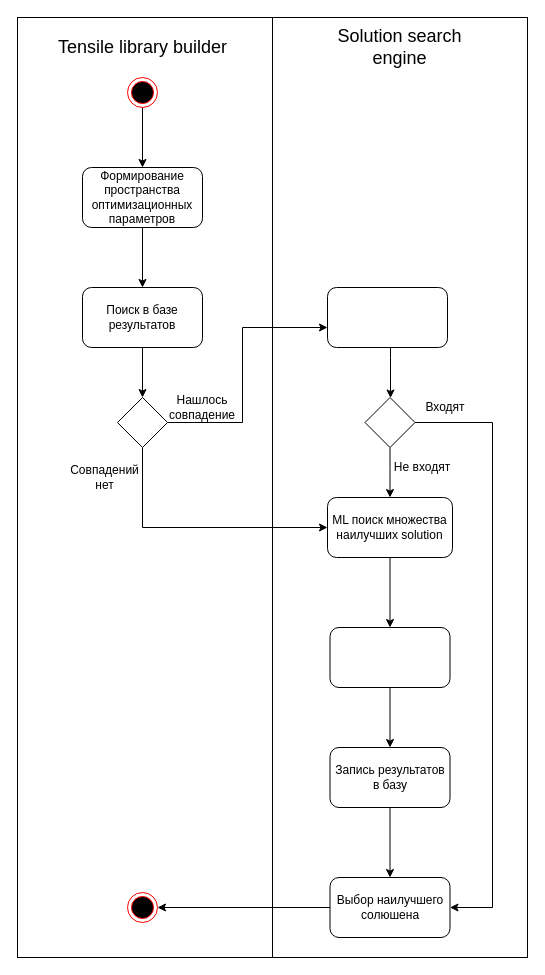
Some shapes in this 545 by 975 pixel diagram are drawn without their labels. The centre of each missing label's shape, as x and y in pixels:
Запуск бенчмарка: (x=389, y=657)
Проверка на вхождение в множество наилучших: (x=387, y=317)
